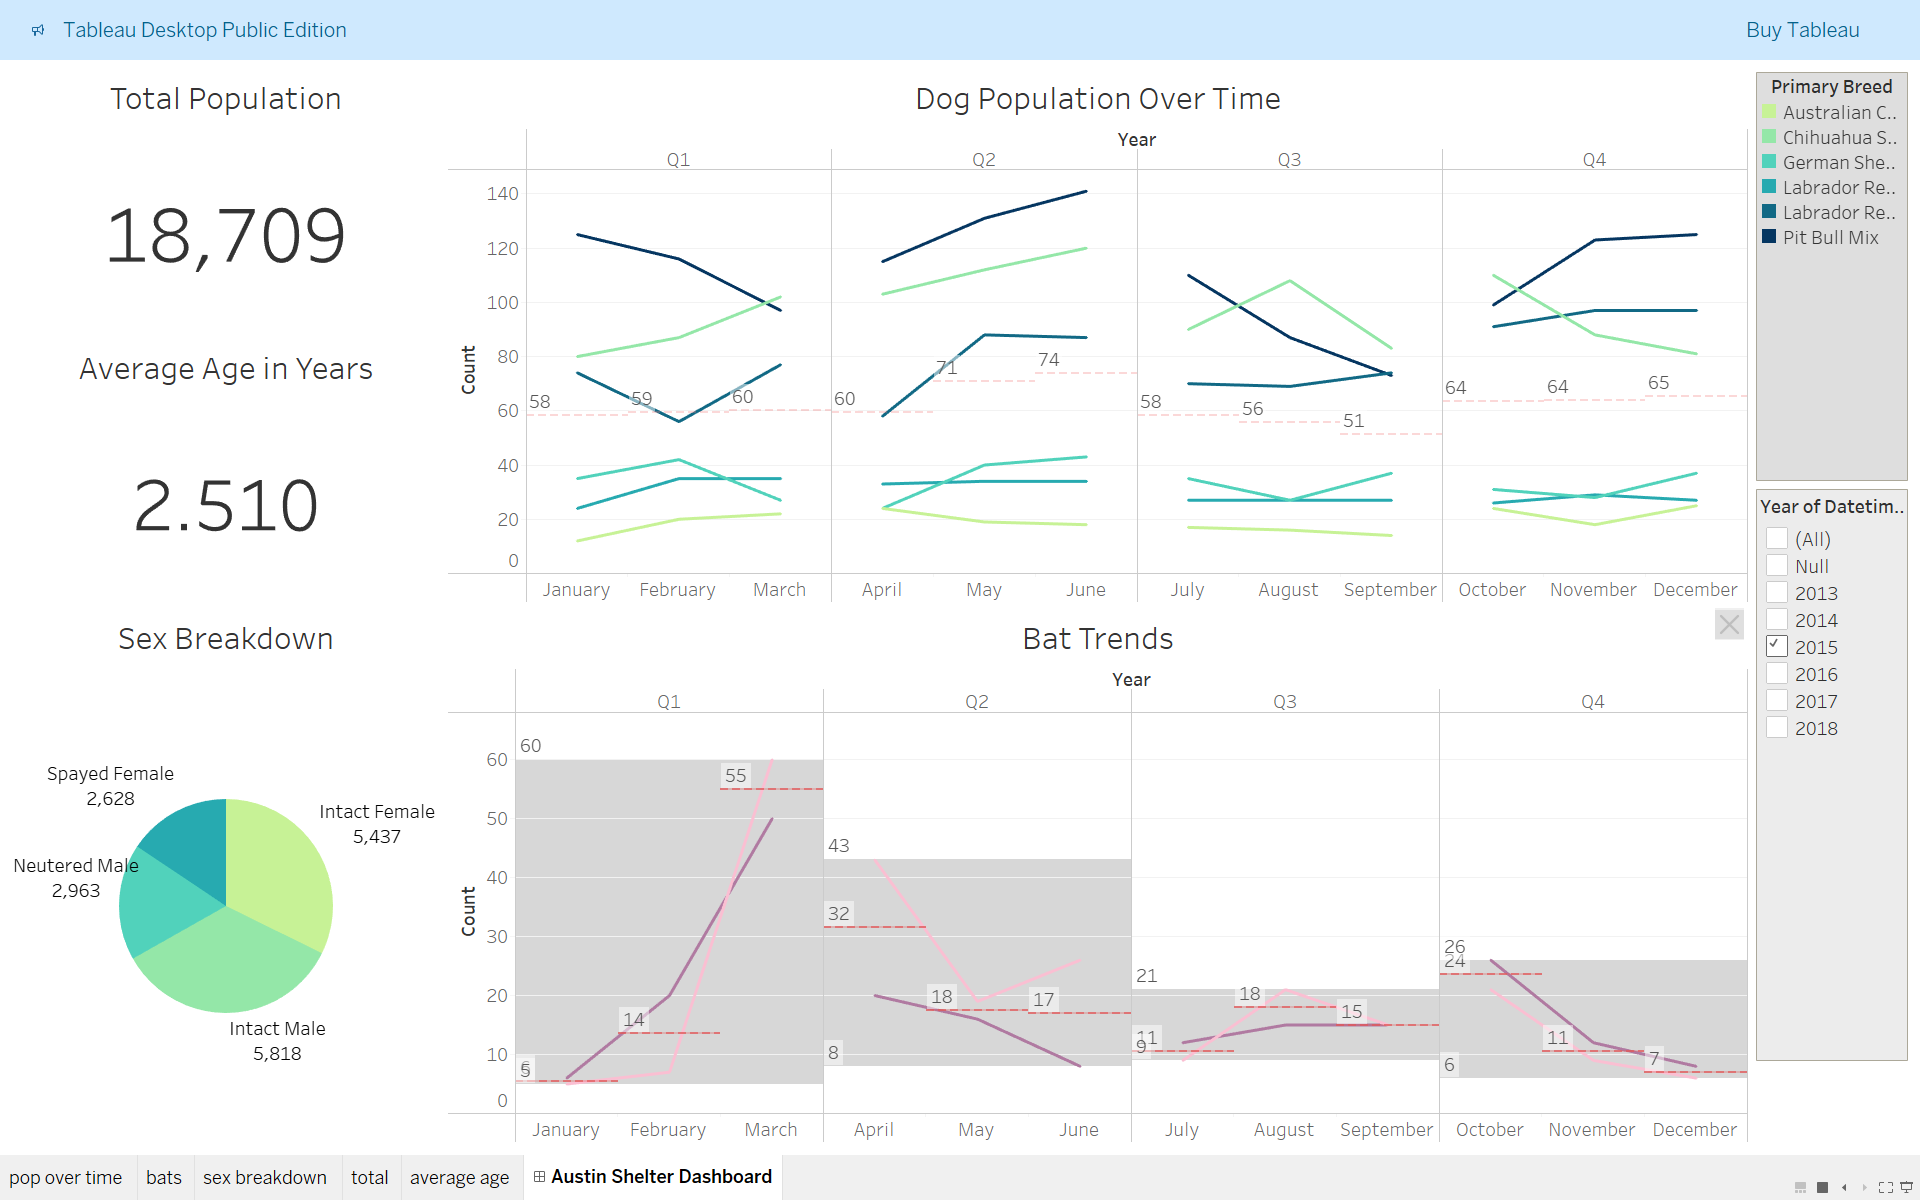

This screenshot's page, from the dashboard's own definition file:
{"tool":"tableau","page":{"name":"Austin Shelter Dashboard","canvas":[1000,1000],"units":"permille","ordinal":0},"visuals":[{"type":"worksheet","title":"total","mark":"Automatic","box":[4.3,9.8,226.3,490.2]},{"type":"worksheet","title":"pop over time","mark":"Automatic","rows":["Working Intakes_8B9D8FF0121B48D5B5B6909222D4542D"],"cols":["Year","Year"],"box":[230.6,9.8,678.8,490.2]},{"type":"legend","title":"pop over time","param":"[federated.1eme2z41n42q171at1x1209kciz9].[none:primary_breed:nk]","box":[909.3,9.8,86.4,490.2]},{"type":"worksheet","title":"sex breakdown","mark":"Pie","box":[4.3,500,226.4,490.2]},{"type":"worksheet","title":"bats","mark":"Automatic","rows":["Working Intakes_8B9D8FF0121B48D5B5B6909222D4542D"],"cols":["Year","Year"],"box":[230.7,500,678.6,490.2]},{"type":"dashboard-object","box":[893.3,500,15.2,29.6]},{"type":"filter","title":"pop over time","param":"[federated.1eme2z41n42q171at1x1209kciz9].[yr:datetime2:ok]","box":[909.3,500,86.4,490.2]}]}

Visuals, with their boxes on the dashboard's canvas, which has no fixed pixel size, in thousandths of its width and height (x1, y1, x2, y2). These are canvas units, not pixel positions in the 1920x1200 screenshot, which may show the page scaled, cropped or inside an application window:
"total" worksheet: [4, 10, 231, 500]
"pop over time" worksheet: [231, 10, 909, 500]
"pop over time" legend: [909, 10, 996, 500]
"sex breakdown" worksheet (Pie marks): [4, 500, 231, 990]
"bats" worksheet: [231, 500, 909, 990]
dashboard-object: [893, 500, 908, 530]
"pop over time" filter: [909, 500, 996, 990]
